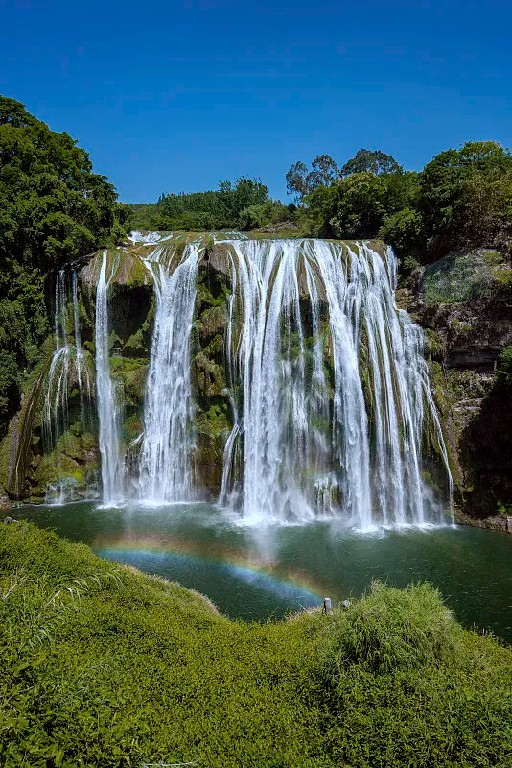Huangguoshu: (48, 232, 453, 526)
